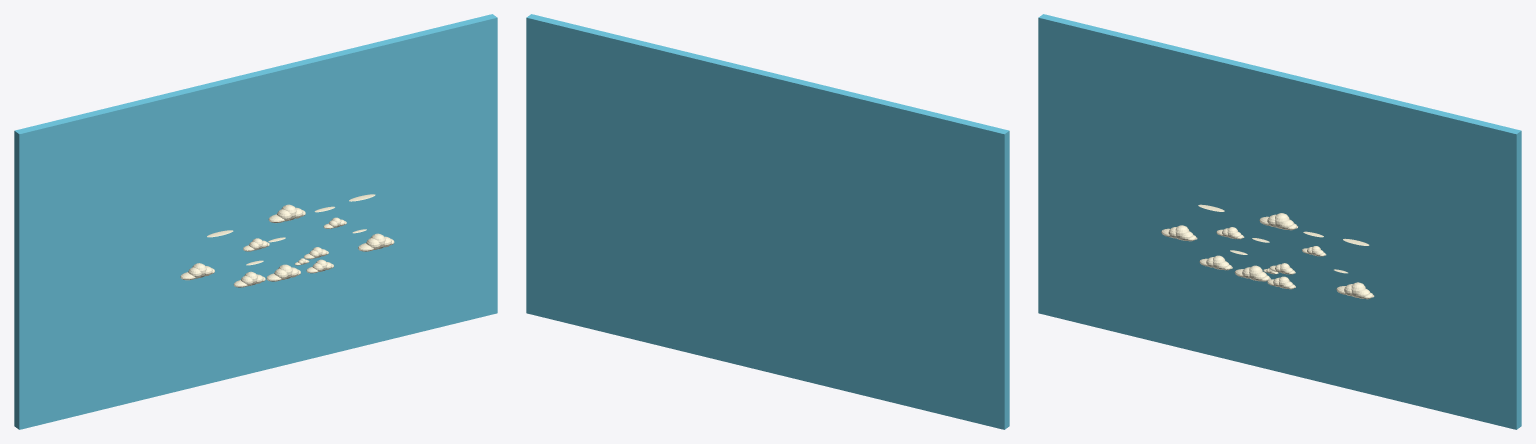
Rendered from sky_backdrop.glb.
The picture shows the model from 3 angles, left to right: view 1: azimuth 30°, elevation 25°; view 2: azimuth 150°, elevation 25°; view 3: azimuth 330°, elevation 25°; orthographic projection.
Visible parts, largest first — view 1: V4_SkyCyan, V4_SkyCloudIvory; view 2: V4_SkyCyan; view 3: V4_SkyCyan, V4_SkyCloudIvory.
Boxes of the visible parts, left/top/right/bottom form: V4_SkyCyan: left=14, top=14, right=497, bottom=429; V4_SkyCloudIvory: left=180, top=194, right=394, bottom=287; V4_SkyCyan: left=526, top=14, right=1009, bottom=429; V4_SkyCyan: left=1038, top=14, right=1521, bottom=429; V4_SkyCloudIvory: left=1161, top=204, right=1373, bottom=299.
Size of the model in its own units: 220 by 130 by 29.69.
